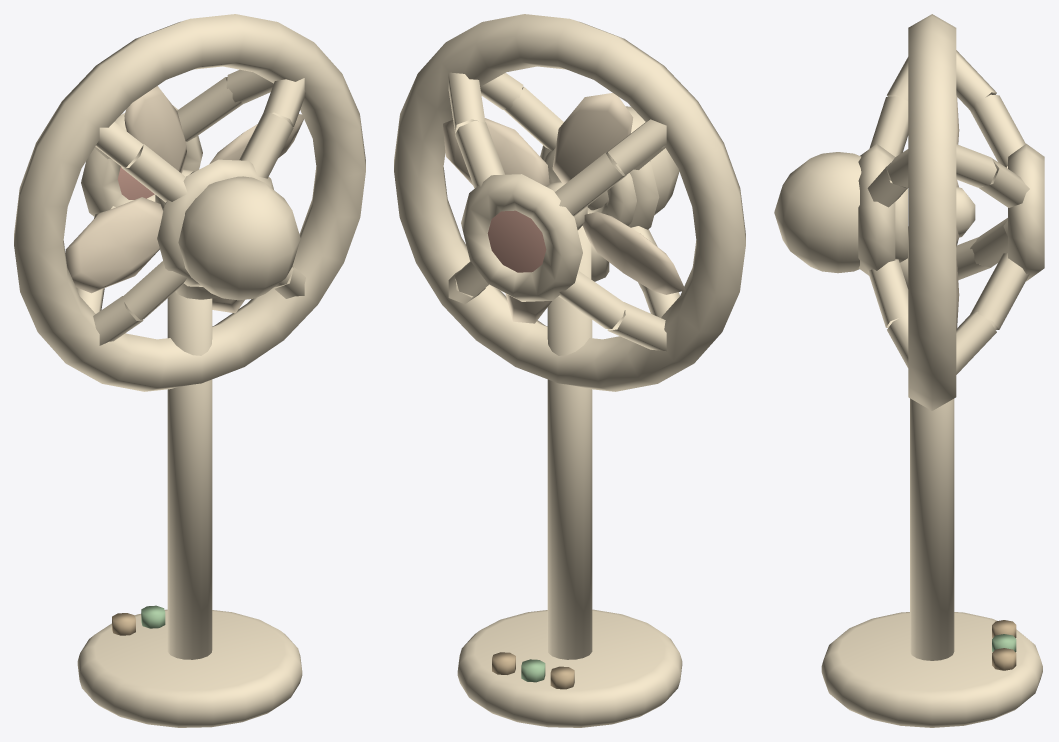
The model's file is fan_standing.glb.
3 renders of one model, left to right at view 1: azimuth 30°, elevation 25°; view 2: azimuth 150°, elevation 25°; view 3: azimuth 270°, elevation 25°, orthographic.
Parts seen in each view (by area): view 1: fan_standing__FanCream, blades, fan_standing__FanBadge; view 2: fan_standing__FanCream, blades, fan_standing__FanBadge, fan_standing__FanButton; view 3: fan_standing__FanCream, blades, fan_standing__FanButton.
Part boxes in pixels (bbox=[...]): fan_standing__FanCream: bbox=[14, 14, 365, 727]; blades: bbox=[65, 86, 303, 313]; fan_standing__FanBadge: bbox=[117, 166, 154, 199]; fan_standing__FanCream: bbox=[394, 14, 745, 727]; blades: bbox=[443, 93, 685, 323]; fan_standing__FanBadge: bbox=[487, 210, 546, 272]; fan_standing__FanButton: bbox=[492, 652, 574, 689]; fan_standing__FanCream: bbox=[774, 14, 1044, 727]; blades: bbox=[956, 95, 975, 328]; fan_standing__FanButton: bbox=[992, 620, 1016, 670].
Size of the model in its own units: 0.72 by 1.3 by 0.4888.
